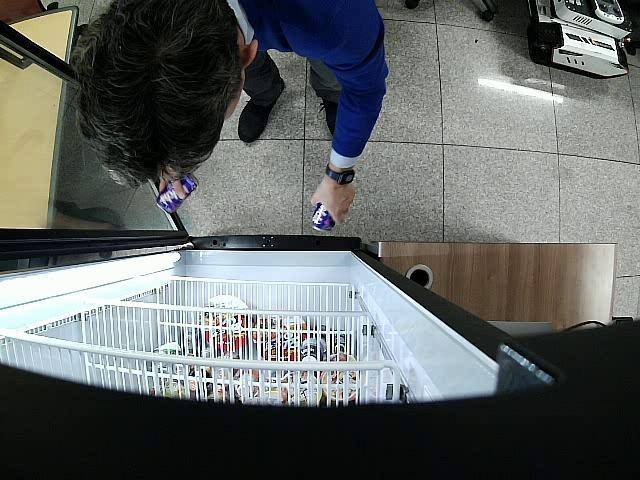14_welchsGrape: (156, 174, 200, 214), (310, 204, 336, 232)
